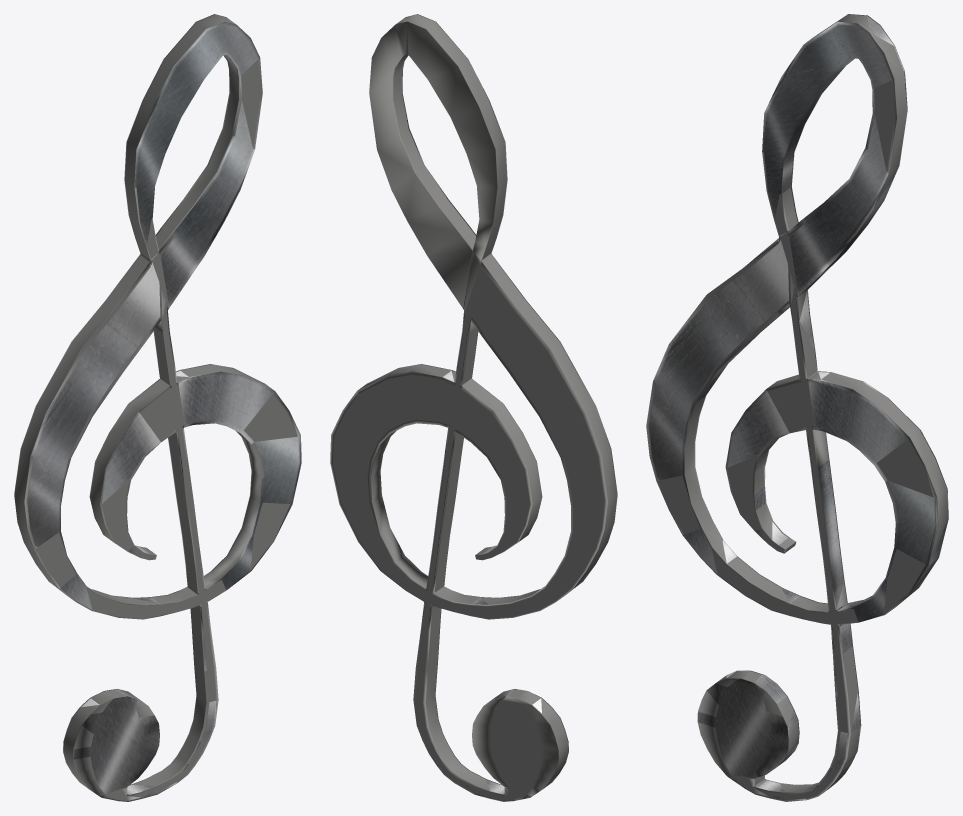
The model's file is Clef4.glb.
3 views of the same model, side by side, from view 1: azimuth 30°, elevation 25°; view 2: azimuth 150°, elevation 25°; view 3: azimuth 330°, elevation 25° (orthographic). The views are drawn at different scales.
Parts seen in each view (by area): view 1: imagetostl_mesh0; view 2: imagetostl_mesh0; view 3: imagetostl_mesh0.
Part boxes in pixels (x1=…): imagetostl_mesh0: x1=14, y1=14, x2=301, y2=801; imagetostl_mesh0: x1=330, y1=14, x2=617, y2=801; imagetostl_mesh0: x1=646, y1=14, x2=948, y2=801.
Size of the model in its own units: 6.75 by 17.61 by 0.4387.
1 material, 1 textured.
